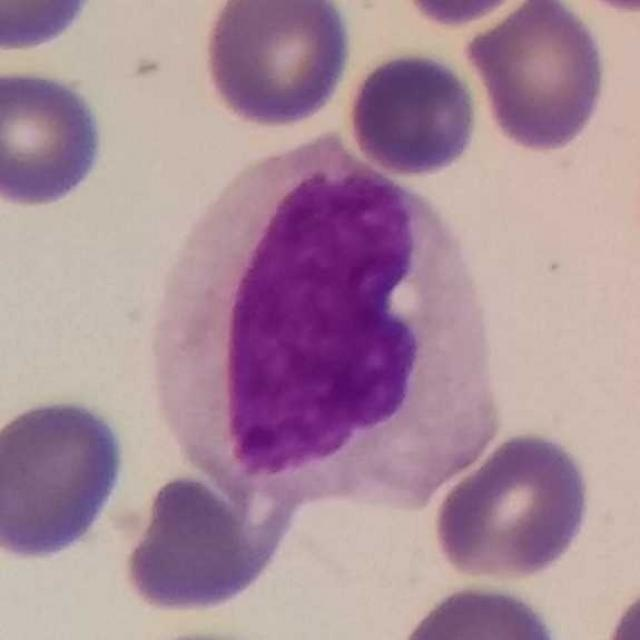Monocyte: (139, 132, 503, 525)
RBC: (111, 465, 297, 620), (427, 426, 598, 584), (463, 0, 612, 155), (0, 391, 132, 565), (199, 0, 357, 131), (343, 47, 483, 180), (0, 62, 109, 213), (385, 577, 571, 640), (0, 0, 101, 55), (391, 0, 542, 29), (595, 572, 640, 640), (560, 0, 640, 17)
